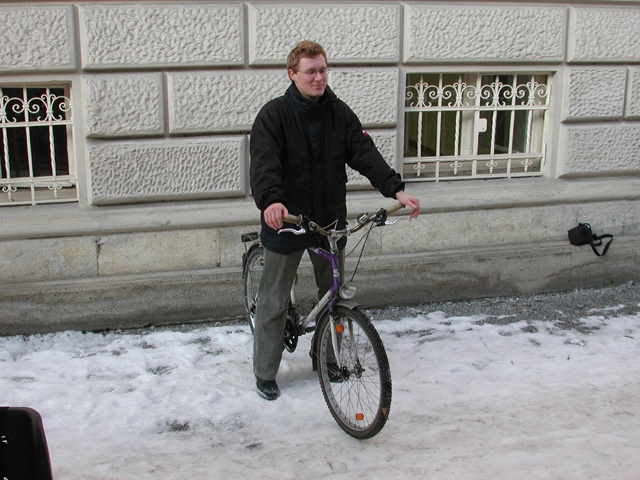person: (242, 40, 354, 397)
